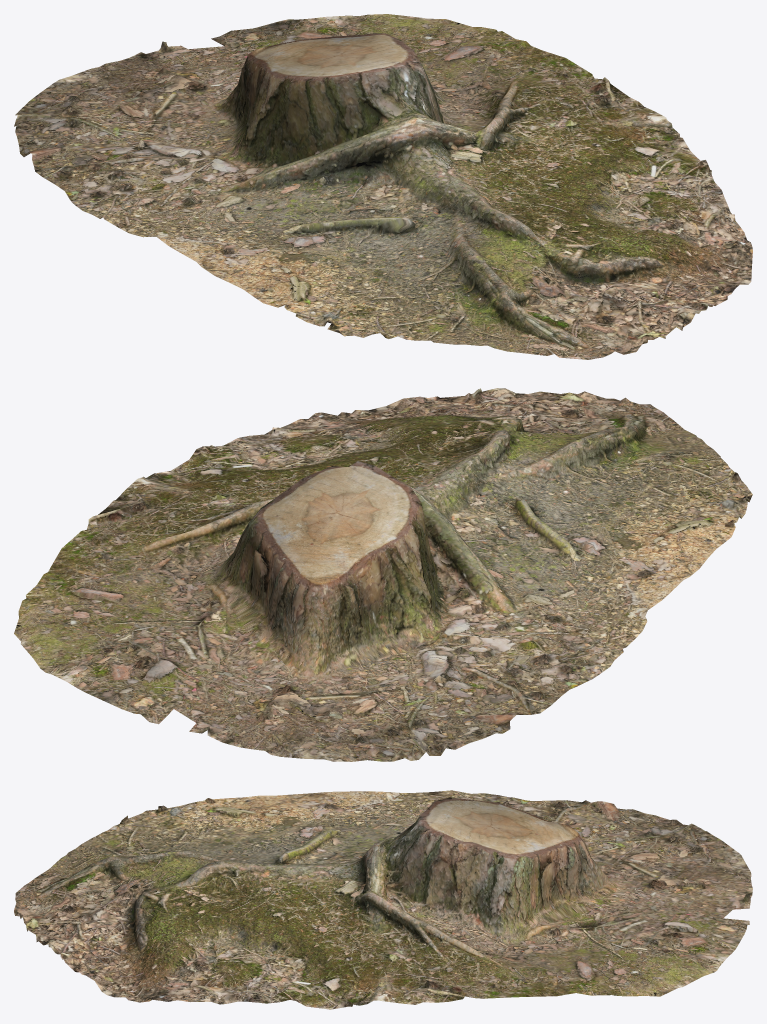
File: model-ultra.gltf
The picture shows the model from 3 angles, top to bottom: view 1: azimuth 30°, elevation 25°; view 2: azimuth 150°, elevation 25°; view 3: azimuth 270°, elevation 25°; orthographic projection. The views are drawn at different scales.
Parts seen in each view (by area): view 1: 3DTreeStump001-0; view 2: 3DTreeStump001-0; view 3: 3DTreeStump001-0.
Part boxes in pixels (<box>): 3DTreeStump001-0: <box>14,14,752,359</box>; 3DTreeStump001-0: <box>14,388,752,761</box>; 3DTreeStump001-0: <box>14,790,752,1009</box>.
Size of the model in its own units: 4.47 by 0.9999 by 6.42.
1 material, 1 textured.
